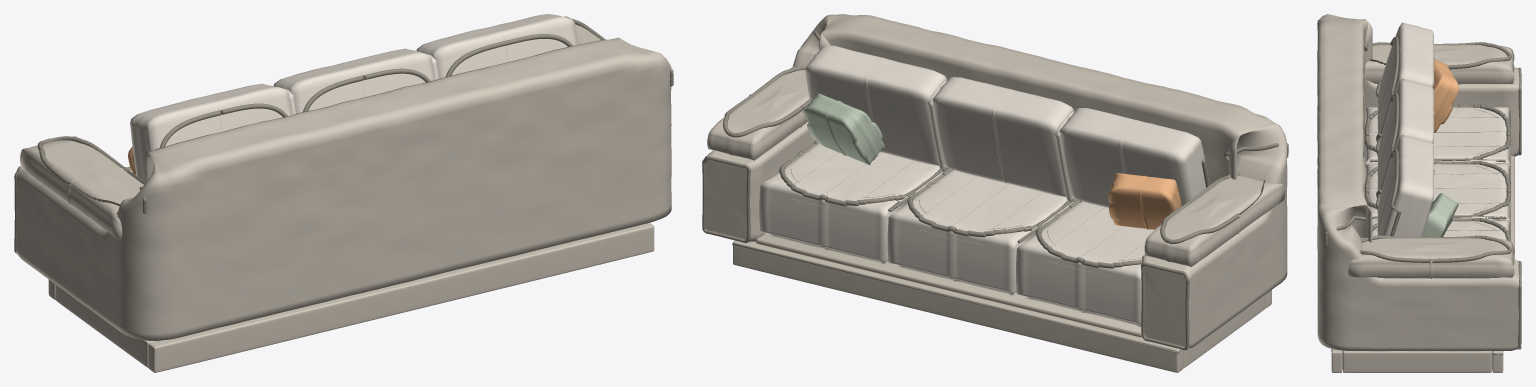
File: sofa.glb
3 views of the same model, side by side, from view 1: azimuth 30°, elevation 25°; view 2: azimuth 150°, elevation 25°; view 3: azimuth 270°, elevation 25° (orthographic). The views are drawn at different scales.
Visible parts, largest first — view 1: shell, frame_rear, arm_pad_L, backc_0, backc_2, backc_1, frame_side_L, arm_pipe_L, backc_pipe_0, backc_pipe_1, backc_pipe_2; view 2: shell, seat_1, seat_2, frame_front, backc_1, seat_0, backc_0, backc_2, arm_pad_L, arm_pad_R, seat_deck, pillow_R (+12 smaller); view 3: shell, arm_pad_R, backc_2, seat_0, seat_1, frame_side_R, arm_pad_L, backc_0, backc_1, pillow_L, arm_pipe_R, seat_2 (+16 smaller).
Part boxes in pixels (x1=…): shell: x1=16, y1=37, x2=671, y2=340; frame_rear: x1=148, y1=222, x2=654, y2=372; arm_pad_L: x1=20, y1=136, x2=143, y2=240; backc_0: x1=130, y1=83, x2=291, y2=181; backc_2: x1=416, y1=14, x2=578, y2=78; backc_1: x1=273, y1=48, x2=434, y2=113; frame_side_L: x1=55, y1=285, x2=156, y2=367; arm_pipe_L: x1=37, y1=136, x2=145, y2=205; backc_pipe_0: x1=146, y1=103, x2=287, y2=155; backc_pipe_1: x1=303, y1=68, x2=430, y2=111; backc_pipe_2: x1=445, y1=34, x2=572, y2=76; shell: x1=705, y1=14, x2=1287, y2=348; seat_1: x1=887, y1=170, x2=1066, y2=295; seat_2: x1=759, y1=142, x2=939, y2=263; frame_front: x1=733, y1=240, x2=1183, y2=372; backc_1: x1=932, y1=77, x2=1073, y2=196; seat_0: x1=1016, y1=201, x2=1154, y2=326; backc_0: x1=1059, y1=108, x2=1209, y2=208; backc_2: x1=805, y1=45, x2=946, y2=165; arm_pad_L: x1=1144, y1=176, x2=1284, y2=266; arm_pad_R: x1=707, y1=66, x2=809, y2=160; seat_deck: x1=756, y1=233, x2=1141, y2=337; pillow_R: x1=803, y1=93, x2=884, y2=164; shell: x1=1317, y1=14, x2=1519, y2=351; arm_pad_R: x1=1348, y1=238, x2=1514, y2=278; backc_2: x1=1377, y1=135, x2=1434, y2=236; seat_0: x1=1364, y1=107, x2=1510, y2=181; seat_1: x1=1364, y1=163, x2=1510, y2=237; frame_side_R: x1=1342, y1=350, x2=1492, y2=372; arm_pad_L: x1=1364, y1=45, x2=1514, y2=84; backc_0: x1=1377, y1=22, x2=1434, y2=134; backc_1: x1=1377, y1=79, x2=1434, y2=190; pillow_L: x1=1433, y1=59, x2=1458, y2=132; arm_pipe_R: x1=1360, y1=235, x2=1511, y2=262; seat_2: x1=1372, y1=220, x2=1510, y2=239.
Bounding box in the file's own units: 2.27 × 0.8411 × 0.9039.
